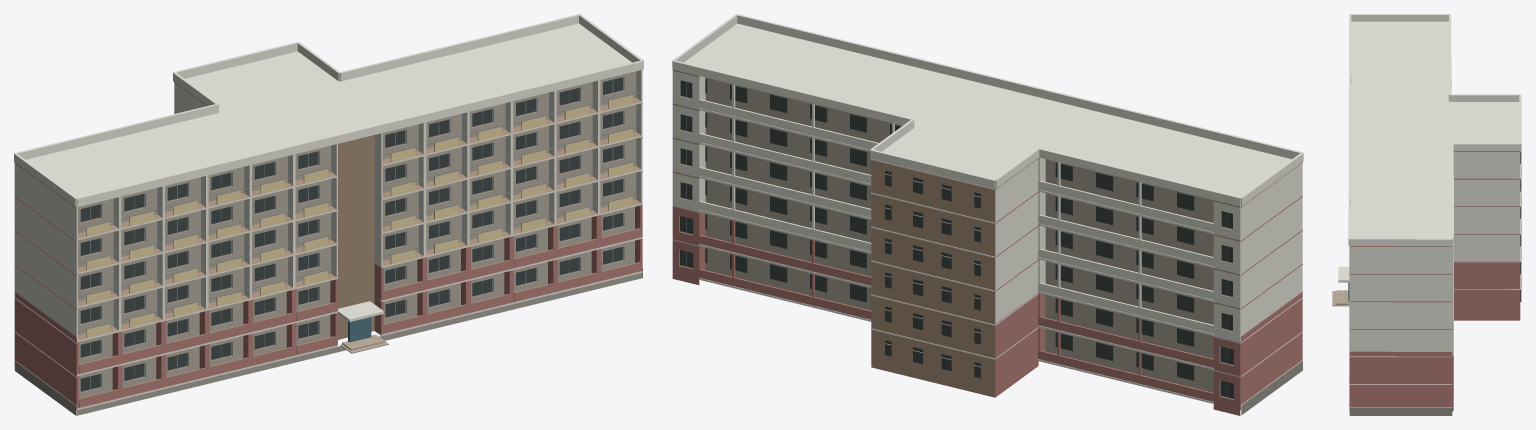
Rendered from chunk-dorm-way-759147081.glb.
3 views of the same model, side by side, from view 1: azimuth 30°, elevation 25°; view 2: azimuth 150°, elevation 25°; view 3: azimuth 270°, elevation 25° (orthographic). The views are drawn at different scales.
Visible parts, largest first — view 1: chunk-dorm-way-759147081; view 2: chunk-dorm-way-759147081; view 3: chunk-dorm-way-759147081.
Part boxes in pixels (x1,y1,x2,y2): chunk-dorm-way-759147081: (14,14,643,415); chunk-dorm-way-759147081: (672,14,1303,415); chunk-dorm-way-759147081: (1332,14,1521,415).
Bounding box in the file's own units: 57.86 × 21.15 × 20.53.
Materials: 13 (1 with a texture image).
